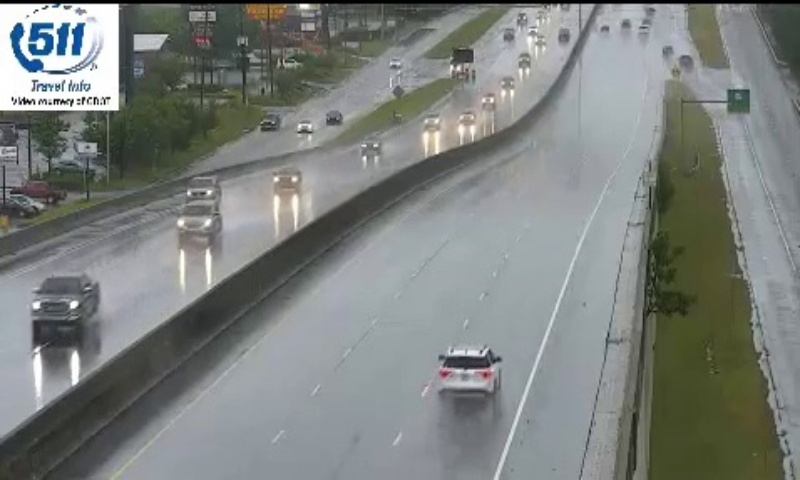car: (438, 346, 498, 396)
